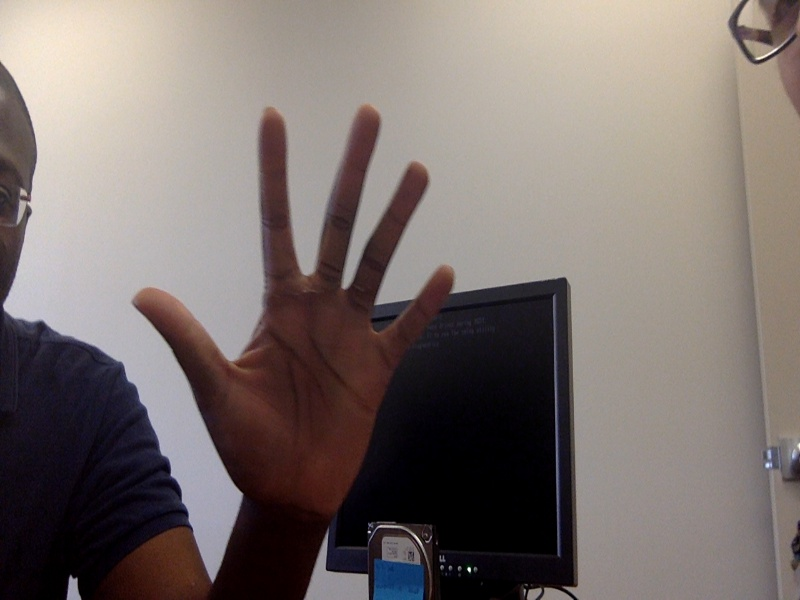5-hand: (133, 103, 457, 516)
